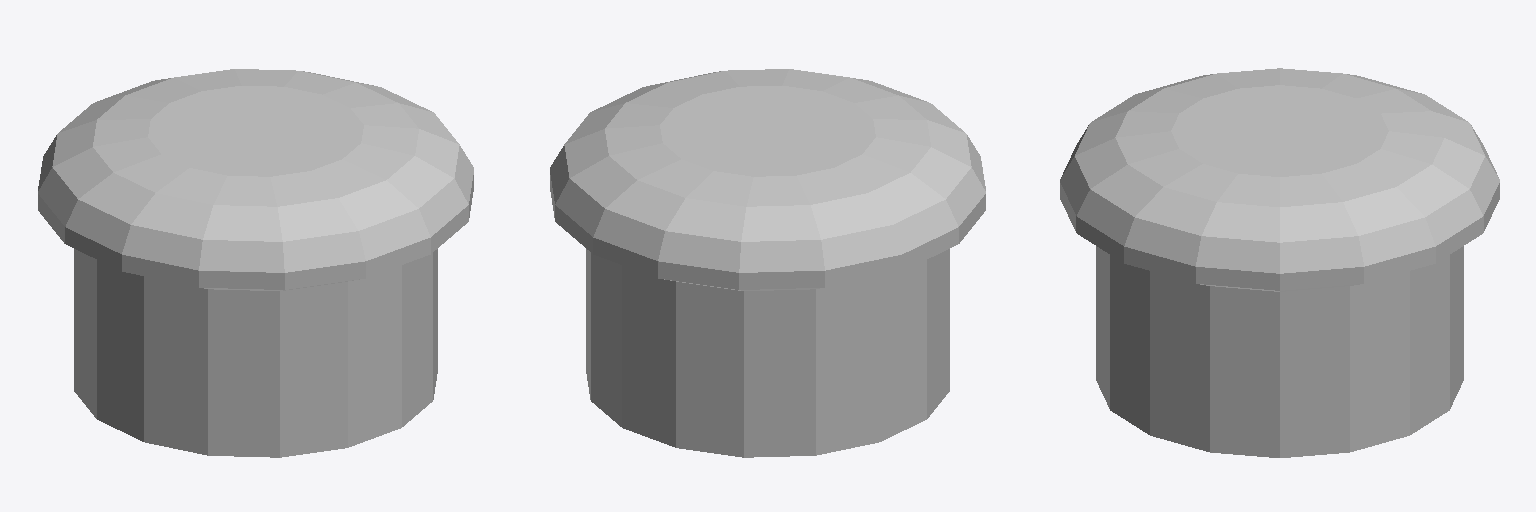
The model's file is Circle Bumper.obj.
3 views of the same model, side by side, from view 1: azimuth 30°, elevation 25°; view 2: azimuth 150°, elevation 25°; view 3: azimuth 270°, elevation 25° (orthographic).
Parts seen in each view (by area): view 1: Cylinder_Cylinder.001; view 2: Cylinder_Cylinder.001; view 3: Cylinder_Cylinder.001.
Boxes of the visible parts, <box> form: Cylinder_Cylinder.001: <box>38,69,473,457</box>; Cylinder_Cylinder.001: <box>550,69,985,457</box>; Cylinder_Cylinder.001: <box>1060,68,1499,457</box>.
Bounding box in the file's own units: 2.4 × 1.5 × 2.4.